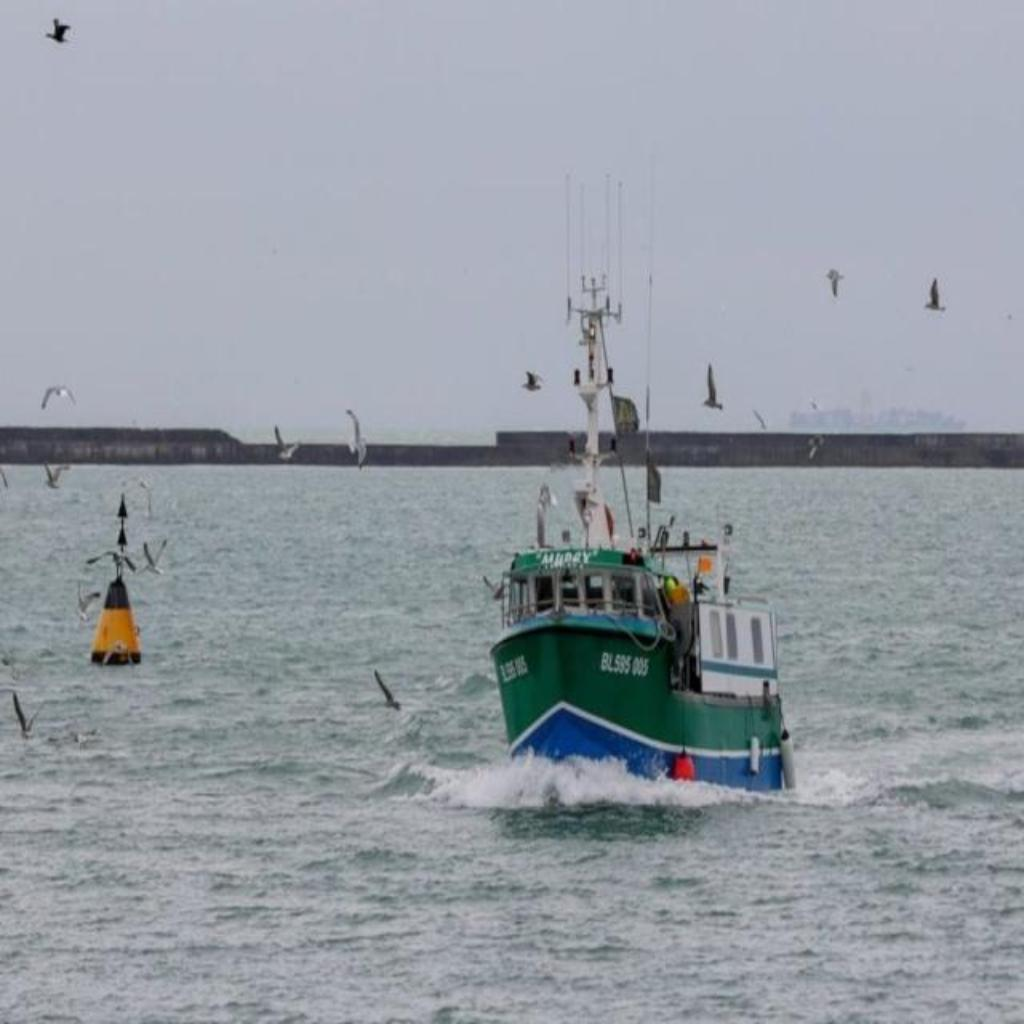PassengerShip: (484, 456, 806, 812)
